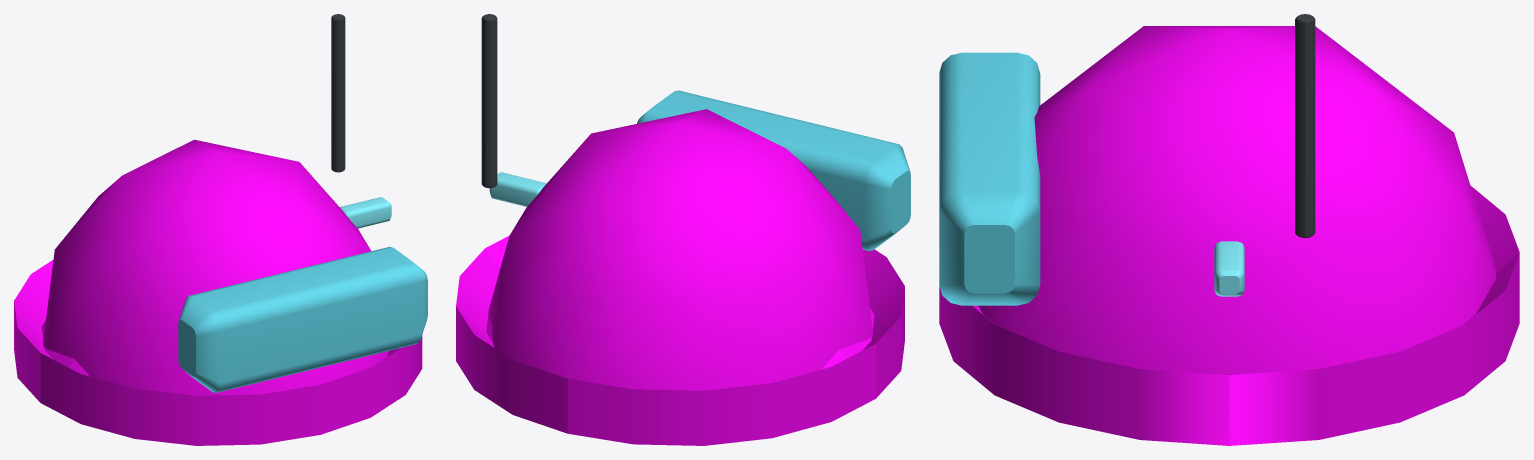
Rendered from objet_armure4_casque.glb.
3 renders of one model, left to right at view 1: azimuth 30°, elevation 25°; view 2: azimuth 150°, elevation 25°; view 3: azimuth 270°, elevation 25°, orthographic. The views are drawn at different scales.
Visible parts, largest first — view 1: casque_teinte.006, casque_visiere.002, casque_teinte_sombre.004, casque_lueur.002; view 2: casque_teinte.006, casque_visiere.002, casque_teinte_sombre.004, casque_lueur.002; view 3: casque_teinte.006, casque_visiere.002, casque_teinte_sombre.004, casque_lueur.002.
Boxes of the visible parts, x1=… form: casque_teinte.006: x1=14, y1=139, x2=422, y2=445; casque_visiere.002: x1=178, y1=246, x2=427, y2=392; casque_teinte_sombre.004: x1=331, y1=14, x2=345, y2=172; casque_lueur.002: x1=340, y1=197, x2=391, y2=228; casque_teinte.006: x1=456, y1=109, x2=904, y2=445; casque_visiere.002: x1=637, y1=90, x2=910, y2=250; casque_teinte_sombre.004: x1=481, y1=14, x2=497, y2=188; casque_lueur.002: x1=489, y1=172, x2=546, y2=206; casque_teinte.006: x1=939, y1=26, x2=1519, y2=445; casque_visiere.002: x1=939, y1=52, x2=1040, y2=305; casque_teinte_sombre.004: x1=1295, y1=14, x2=1315, y2=237; casque_lueur.002: x1=1214, y1=241, x2=1244, y2=296.
Bounding box in the file's own units: 0.23 × 0.178 × 0.23.
